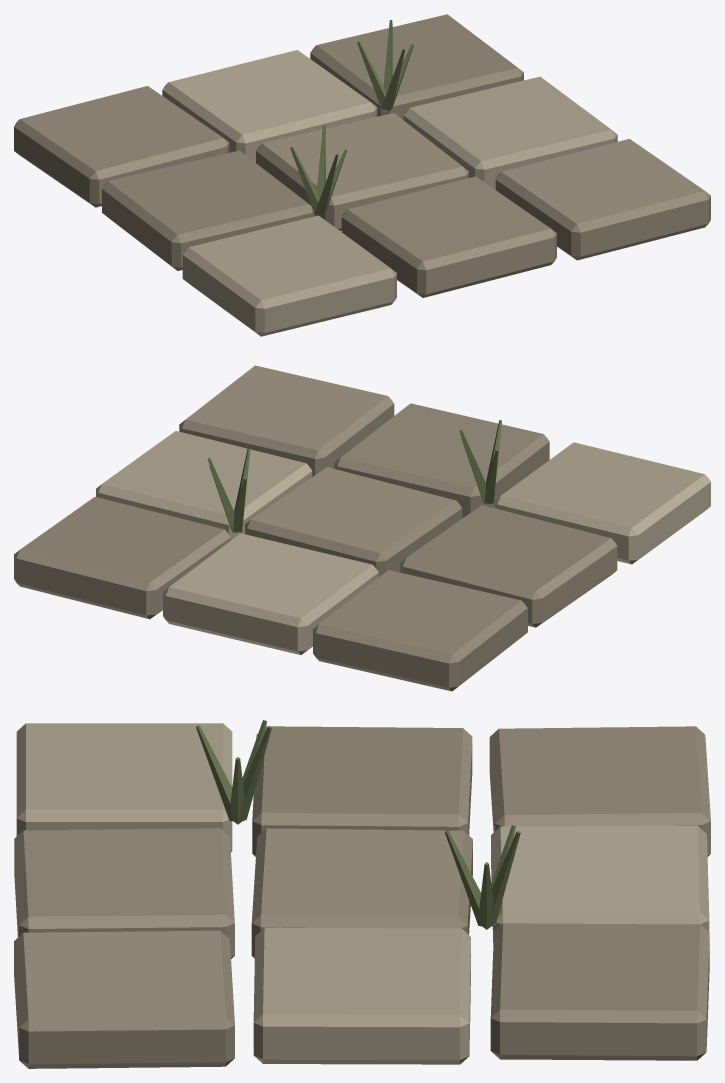
File: worn-paving.glb
The picture shows the model from 3 angles, top to bottom: view 1: azimuth 30°, elevation 25°; view 2: azimuth 150°, elevation 25°; view 3: azimuth 270°, elevation 25°; orthographic projection. The views are drawn at different scales.
Visible parts, largest first — view 1: worn-paving; view 2: worn-paving; view 3: worn-paving.
Part boxes in pixels (x1,y1,x2,y2): worn-paving: (14, 14, 710, 336); worn-paving: (14, 365, 710, 691); worn-paving: (14, 720, 710, 1068).
Size of the model in its own units: 1.96 by 0.4466 by 1.9.
